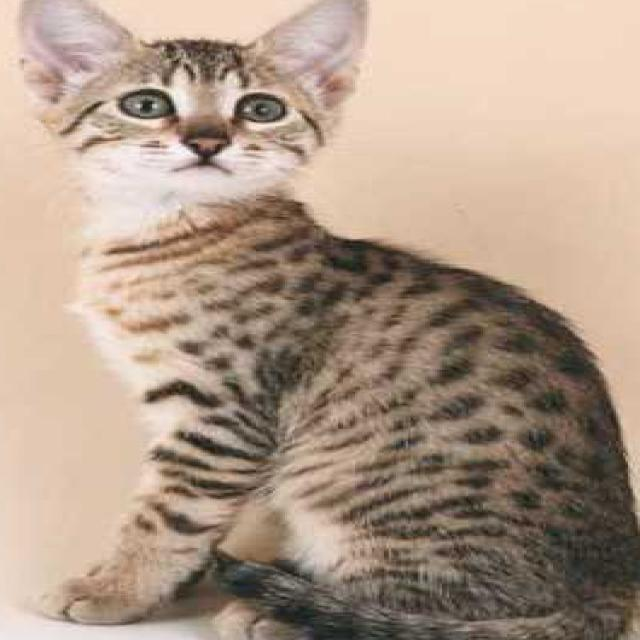Egyptian Mau: (5, 0, 640, 640)
